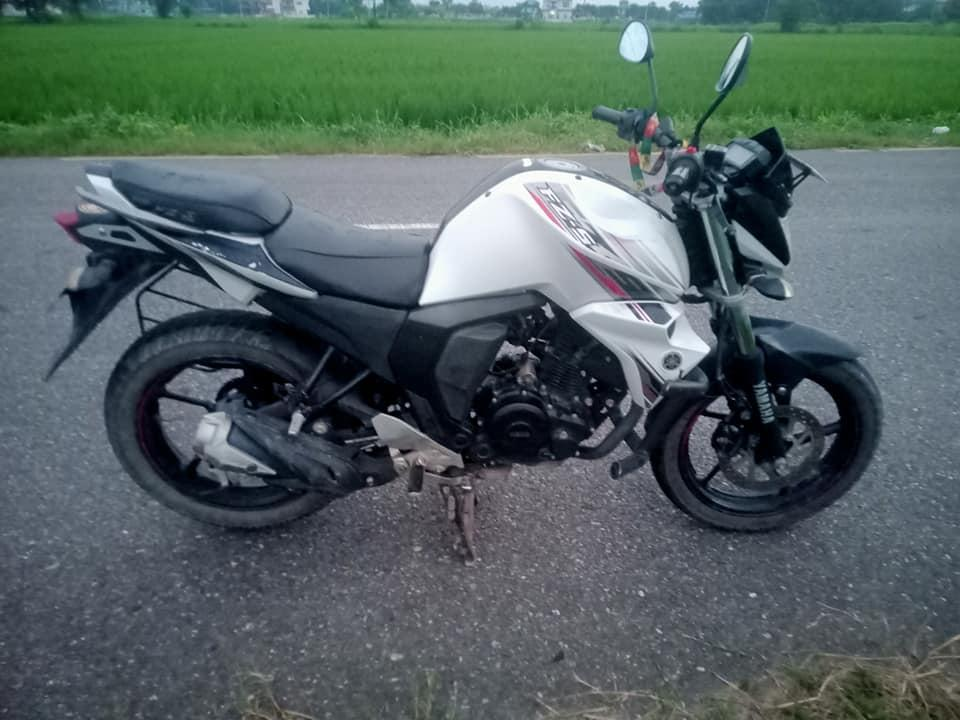bike: (44, 17, 894, 553)
